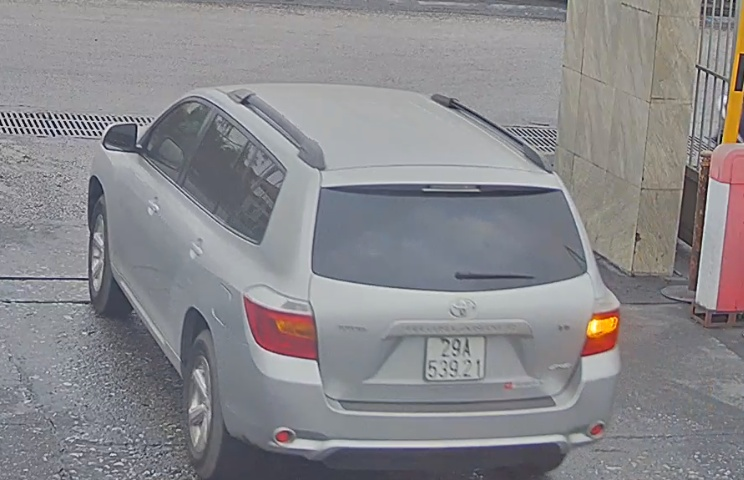vehicle plate: (421, 326, 490, 383)
